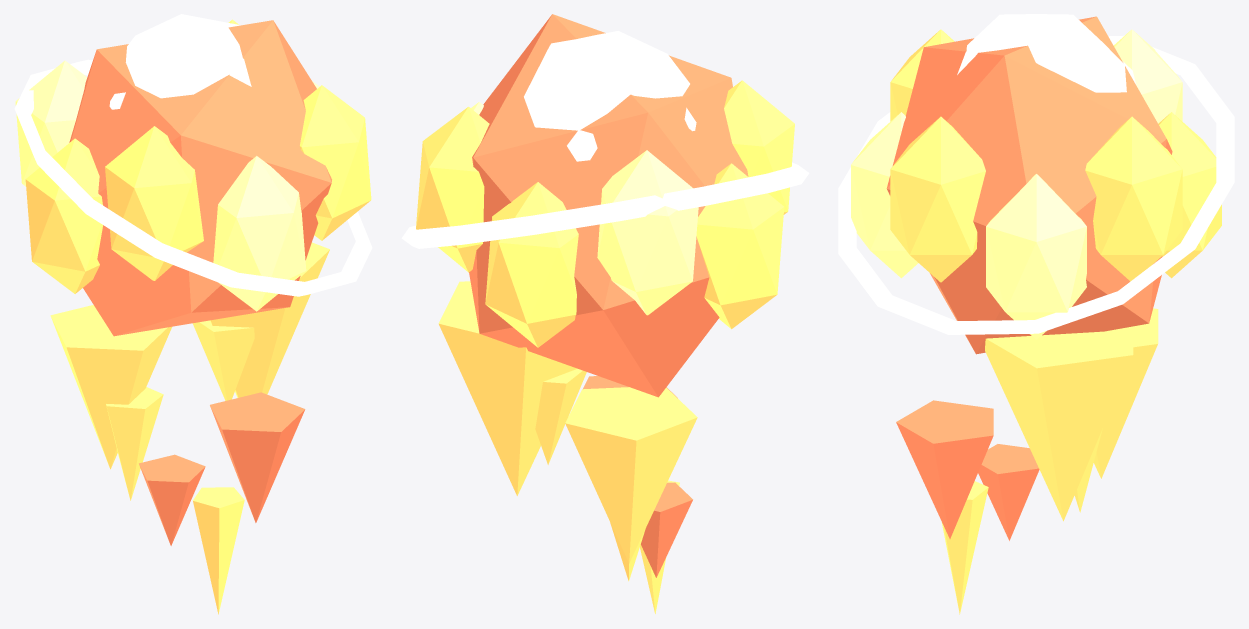
Rendered from fireball.glb.
The picture shows the model from 3 angles, left to right: view 1: azimuth 30°, elevation 25°; view 2: azimuth 150°, elevation 25°; view 3: azimuth 270°, elevation 25°; orthographic projection. The views are drawn at different scales.
Parts seen in each view (by area): view 1: EmberMantle, LavaShell_5, LavaShell_6, FlameTongue_1, HeatBand, WhiteHotCore, LavaShell_4, LavaShell_7, FlameTongue_2, FlameTongue_0, LavaShell_3, FireWake_2 (+3 smaller); view 2: EmberMantle, FlameTongue_1, WhiteHotCore, FlameTongue_0, LavaShell_3, LavaShell_2, LavaShell_4, HeatBand, LavaShell_1, LavaShell_5, FireWake_0, FlameTongue_3 (+1 smaller); view 3: EmberMantle, FlameTongue_0, HeatBand, LavaShell_0, LavaShell_1, LavaShell_7, FlameTongue_2, WhiteHotCore, LavaShell_6, LavaShell_2, FlameTongue_3, LavaShell_3 (+3 smaller).
Part boxes in pixels (x1,y1,x2,y2): EmberMantle: (69,20,331,336); LavaShell_5: (105,126,203,280); LavaShell_6: (213,156,306,311); FlameTongue_1: (50,305,171,469); HeatBand: (14,59,372,296); WhiteHotCore: (109,14,251,109); LavaShell_4: (25,138,102,293); LavaShell_7: (300,85,371,240); FlameTongue_2: (210,392,305,522); FlameTongue_0: (210,242,329,397); LavaShell_3: (15,60,87,186); FireWake_2: (193,487,244,614); EmberMantle: (469,14,748,397); FlameTongue_1: (565,387,697,563); WhiteHotCore: (524,31,696,161); FlameTongue_0: (438,281,576,495); LavaShell_3: (597,150,698,315); LavaShell_2: (485,182,578,347); LavaShell_4: (696,163,784,329); HeatBand: (401,162,809,248); LavaShell_1: (416,106,489,272); LavaShell_5: (724,80,794,214); FireWake_0: (535,368,586,464); FlameTongue_3: (641,482,692,577); EmberMantle: (886,16,1172,354); FlameTongue_0: (985,326,1133,521); HeatBand: (838,35,1234,334); LavaShell_0: (986,174,1086,339); LavaShell_1: (1085,116,1182,281); LavaShell_7: (890,116,985,282); FlameTongue_2: (896,400,993,538); WhiteHotCore: (957,14,1136,92); LavaShell_6: (851,112,918,278); LavaShell_2: (1158,112,1221,278); FlameTongue_3: (978,444,1039,540); LavaShell_3: (1113,29,1182,123).
Bounding box in the file's own units: 0.7368 × 1.24 × 0.733.
